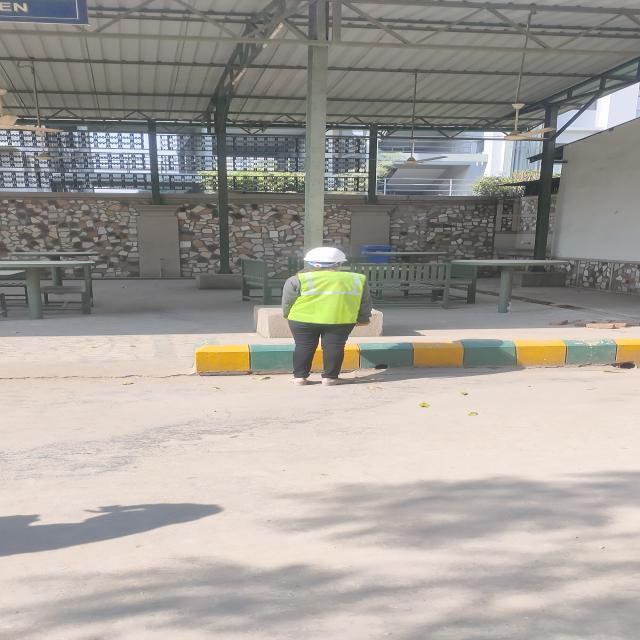safe: (282, 247, 373, 386)
